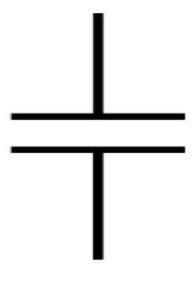Capacitor: (1, 80, 188, 176)
